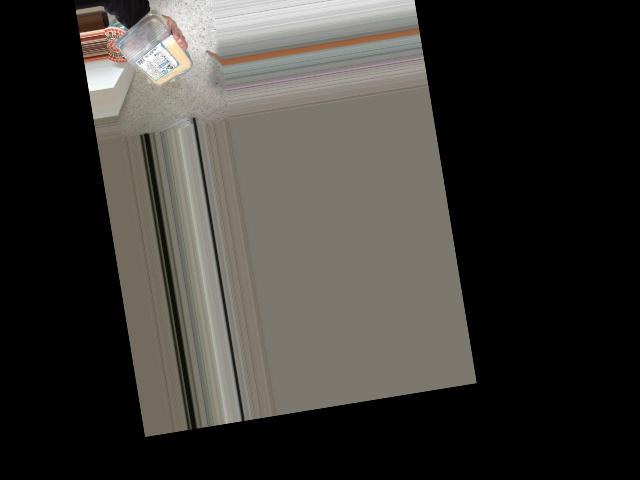cheese: (109, 23, 190, 95)
